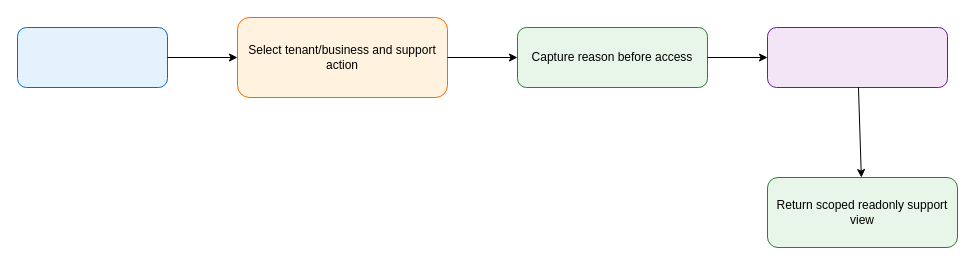
This 975x265 diagram has some shape labels left out. The shapes that lost their labels are listed below. From the top down, each one's centre as x and y in pixels, then its label:
At [92,57]: "Support admin".
At [857,57]: "Write support audit record".
